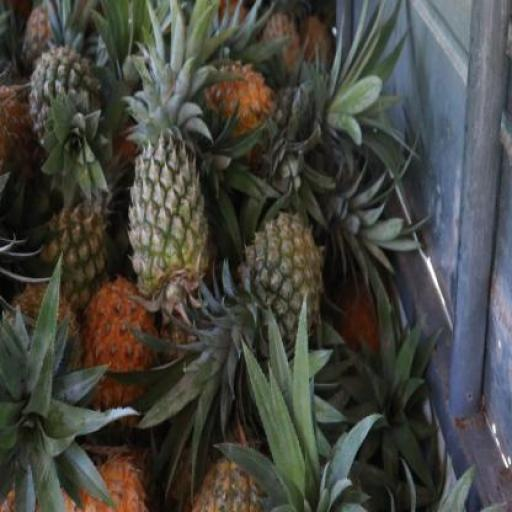Pineapple - v8 v1: (79, 275, 154, 424), (200, 57, 279, 139)
